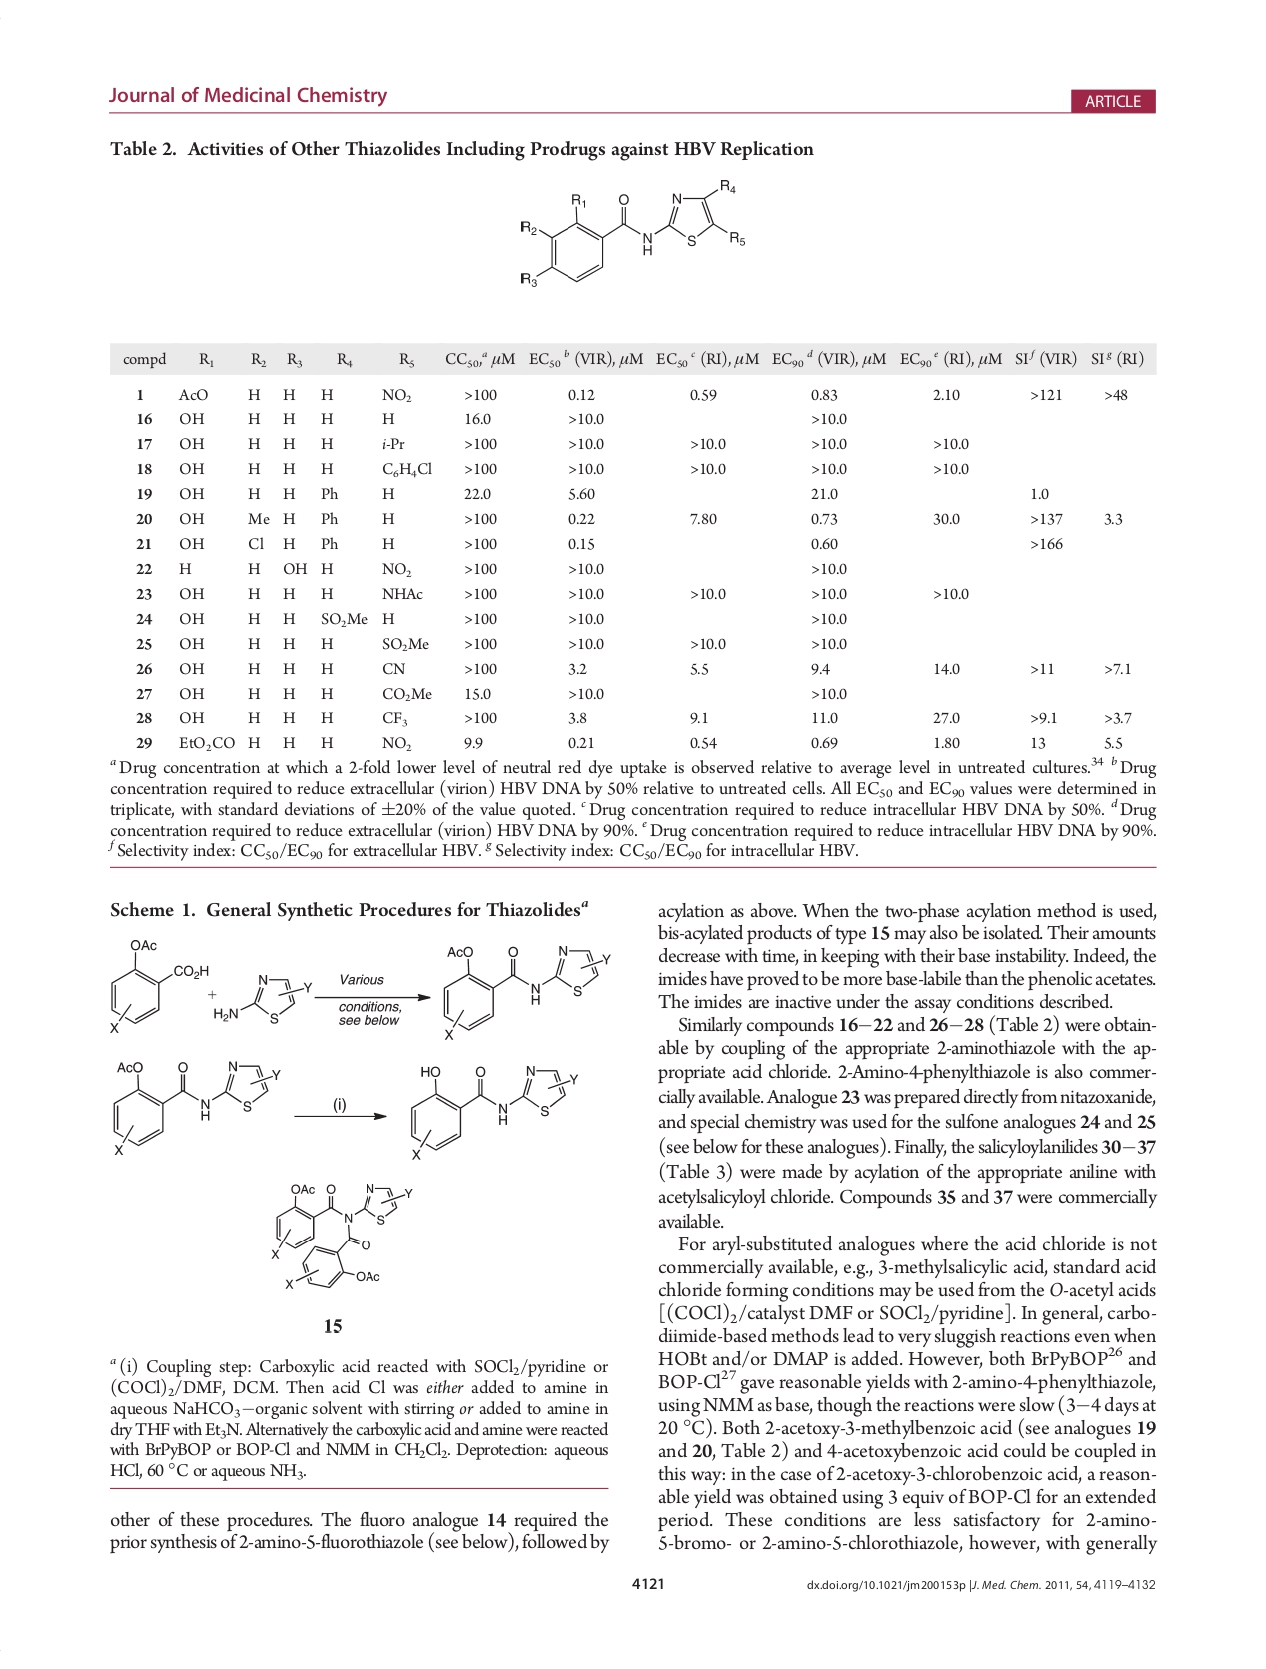exist_molecular: (515, 176, 749, 293), (436, 938, 612, 1045), (102, 1055, 281, 1157), (269, 1177, 415, 1297), (406, 1063, 578, 1164), (106, 935, 210, 1039), (211, 968, 314, 1031)
